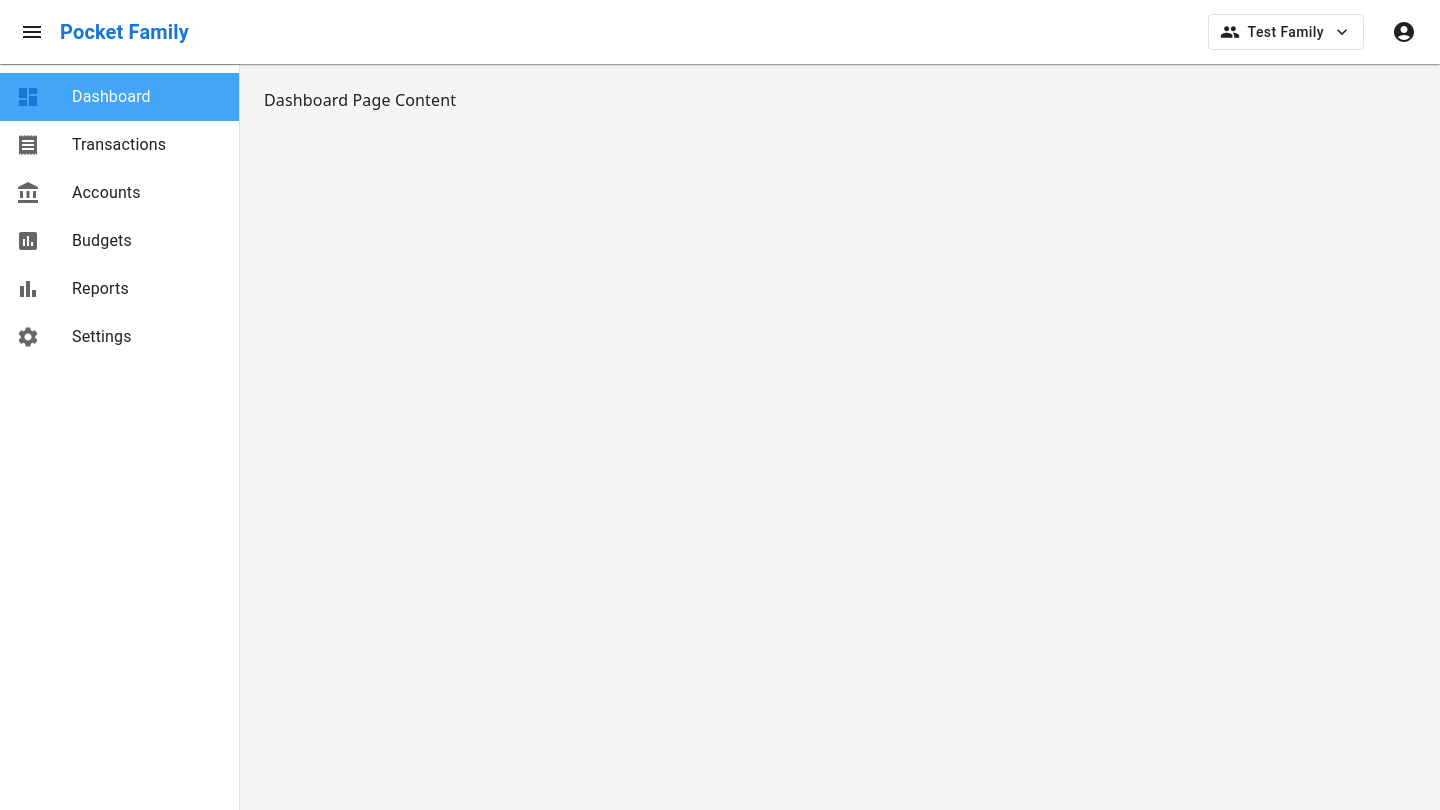
Test: Language switcher › switches navigation labels to Portuguese when selected from the user menu
Check: the text "Dashboard" is shown, box [72,87,151,106]
Click the button named "account of current user" at (1404, 32), box [1380,8,1428,56]
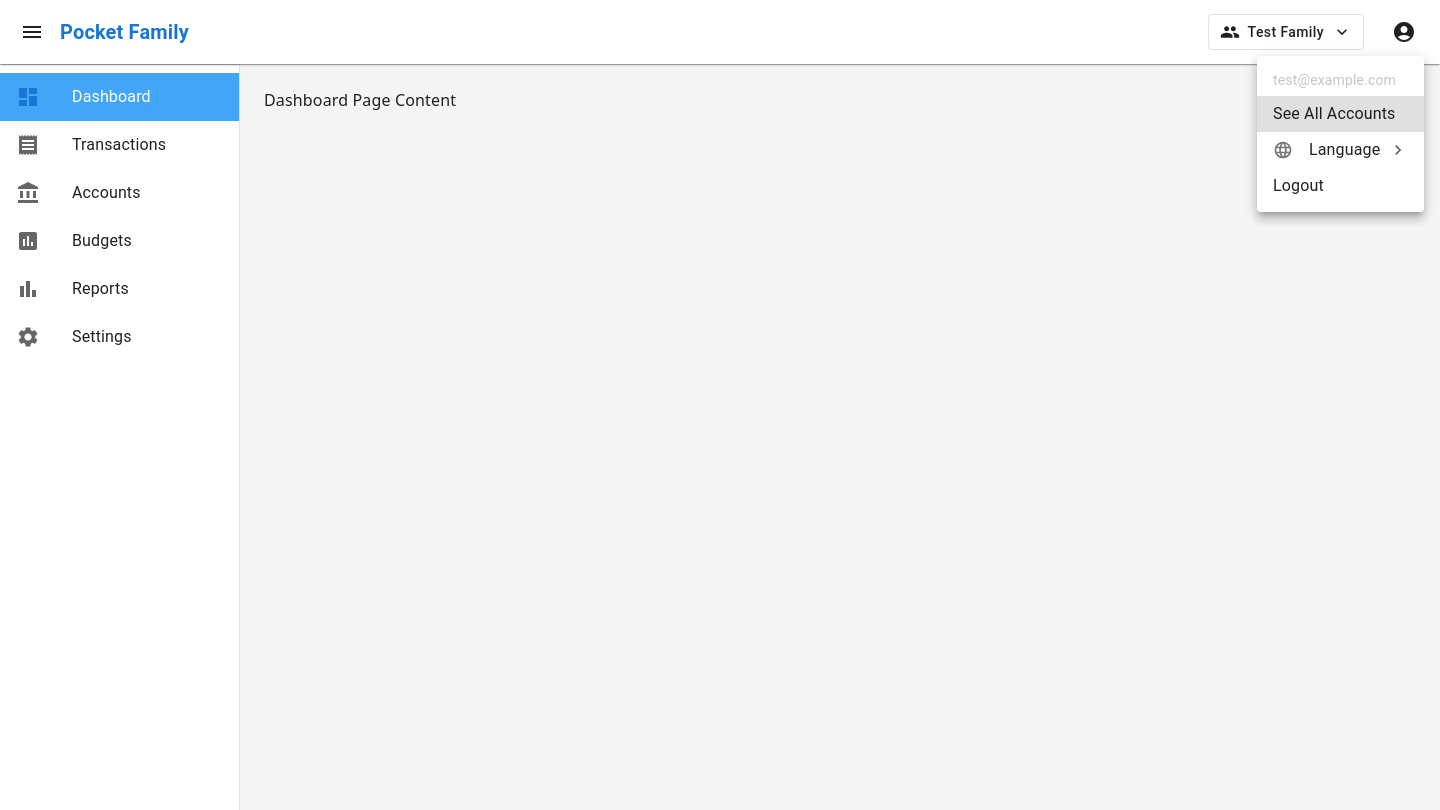
Click the menu item "Language" at (1341, 150), box [1273,140,1408,160]
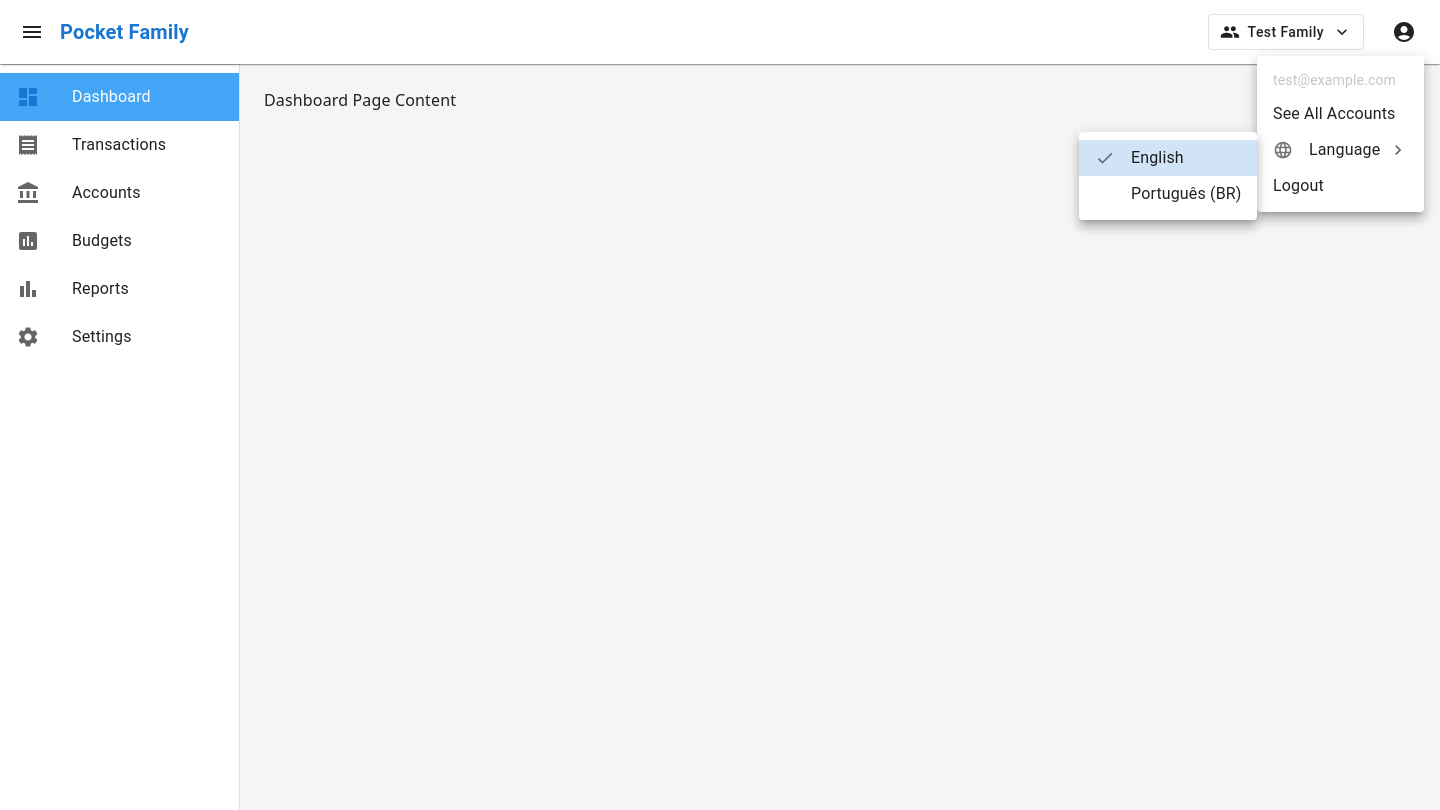
Click the text "Português (BR)" at (1186, 194), box [1131,182,1242,206]
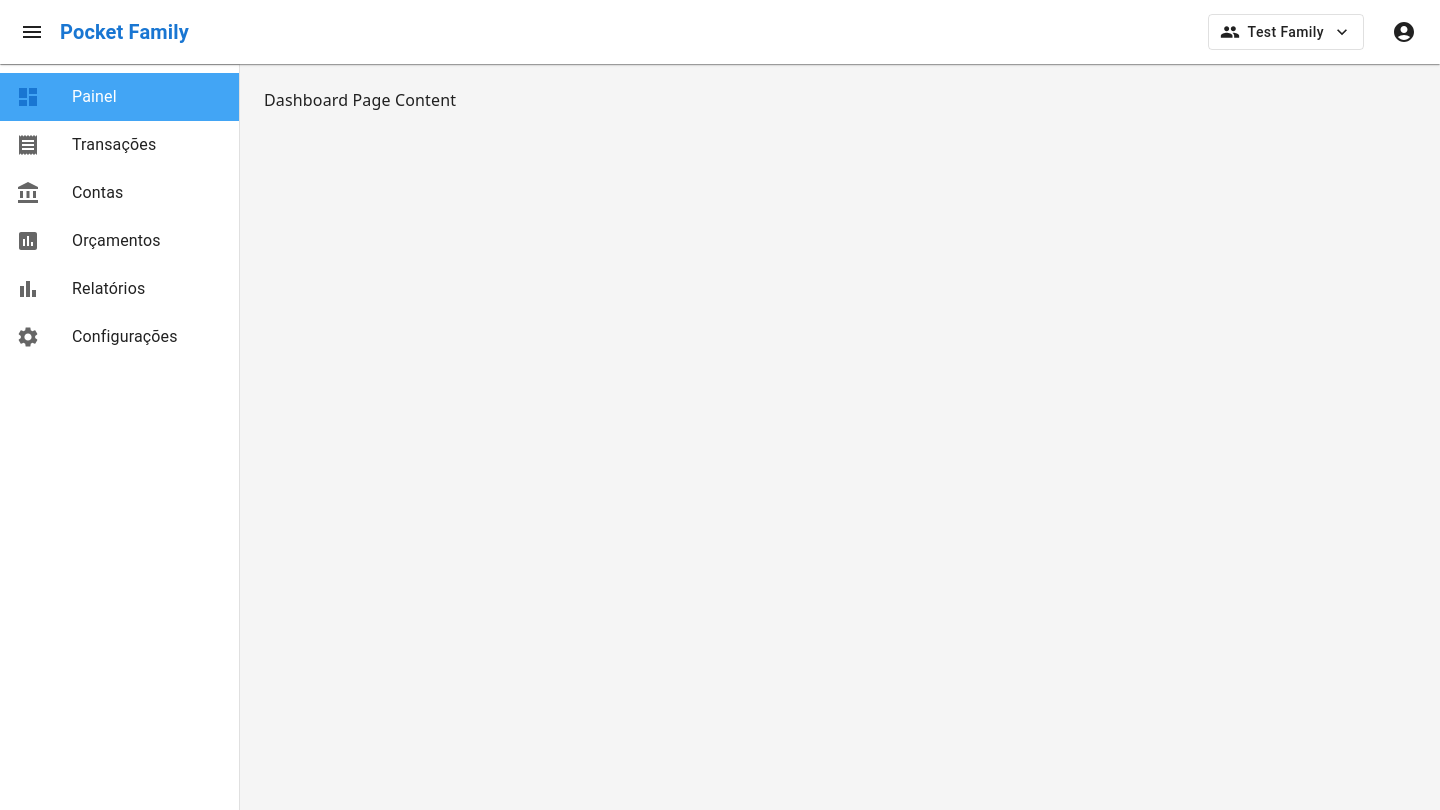
Check: the text "Painel" is shown, box [72,87,117,106]
